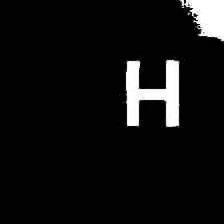LTR_H: (114, 55, 188, 133)
